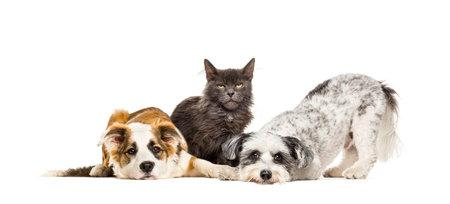cats: (171, 51, 265, 134)
dogs: (53, 106, 230, 183), (224, 121, 394, 184)
